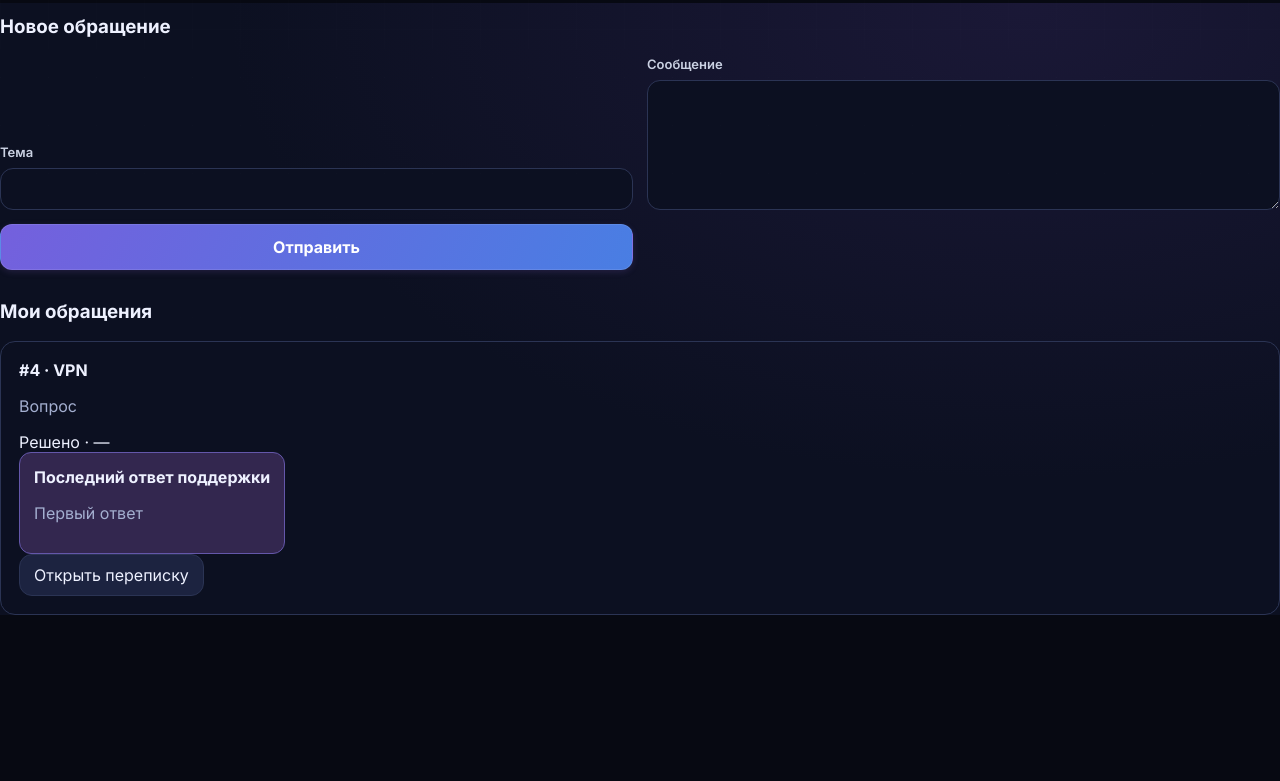
Scenario: opens a support conversation and retries the same follow-up safely
Click the button "Открыть переписку" at [111, 575], box [19, 554, 204, 596]
(page scrolled)
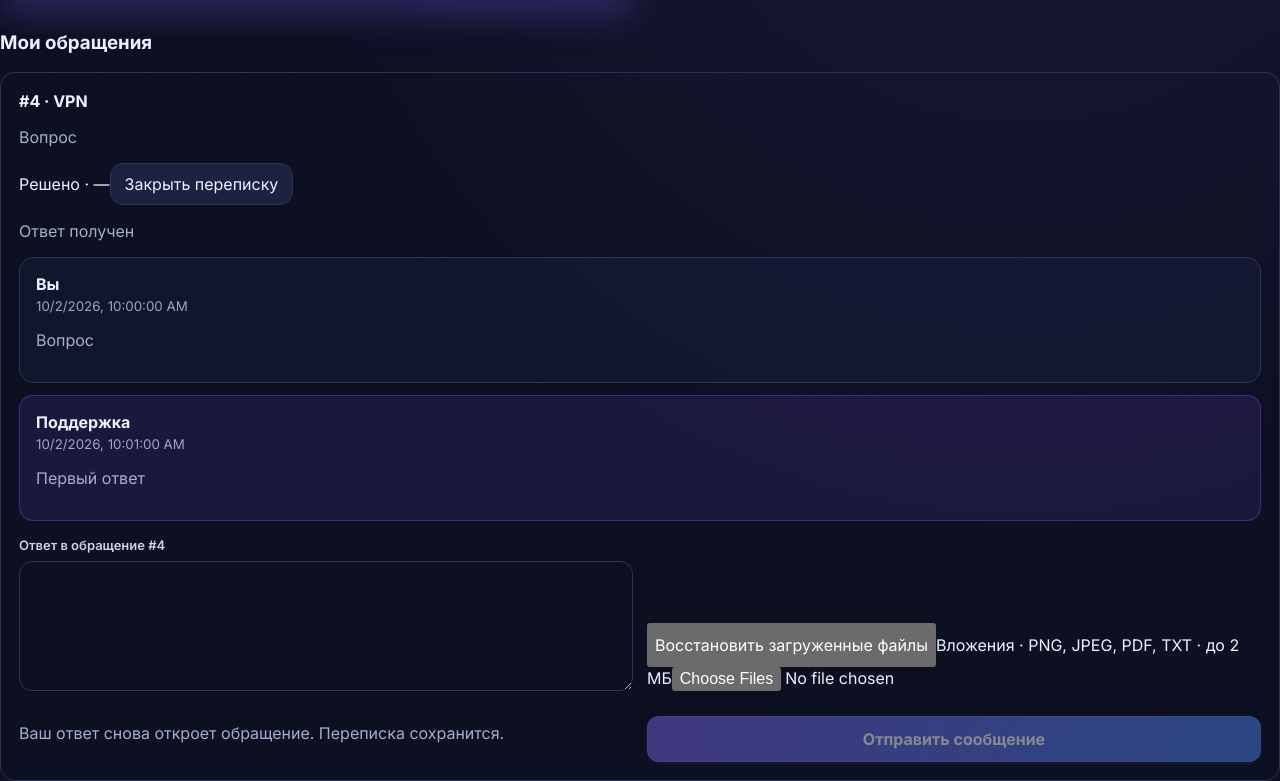
Check: the text "Ответ получен" is shown, box [19, 221, 134, 241]
Type "Нужна ещё помощь" into the text box labelled "Ответ в обращение #4" at [326, 626], box [19, 561, 633, 691]
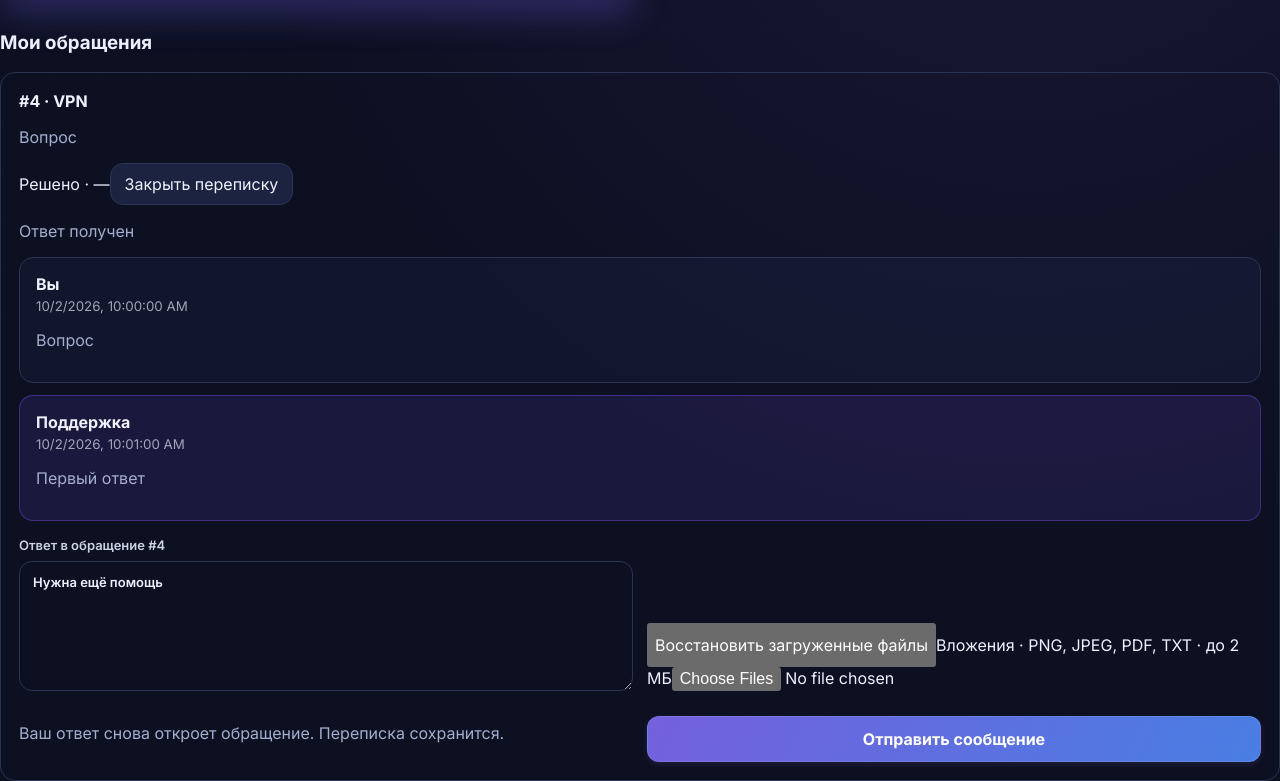
Click the button "Отправить сообщение" at [954, 739], box [647, 716, 1261, 762]
(page scrolled)
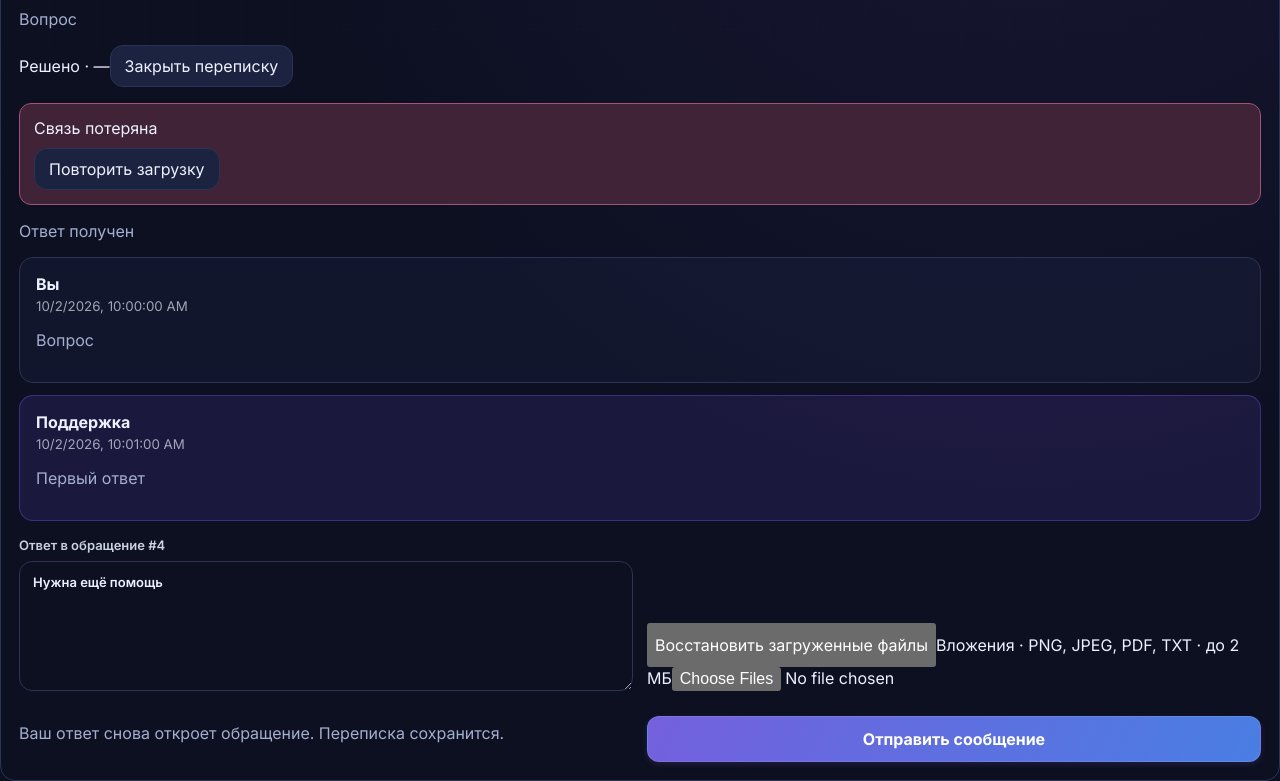
Check: the button "Отправить сообщение" is enabled
Check: the text "Связь потеряна" is shown, box [34, 118, 158, 138]
Click the button "Отправить сообщение" at [954, 739], box [647, 716, 1261, 762]
(page scrolled)
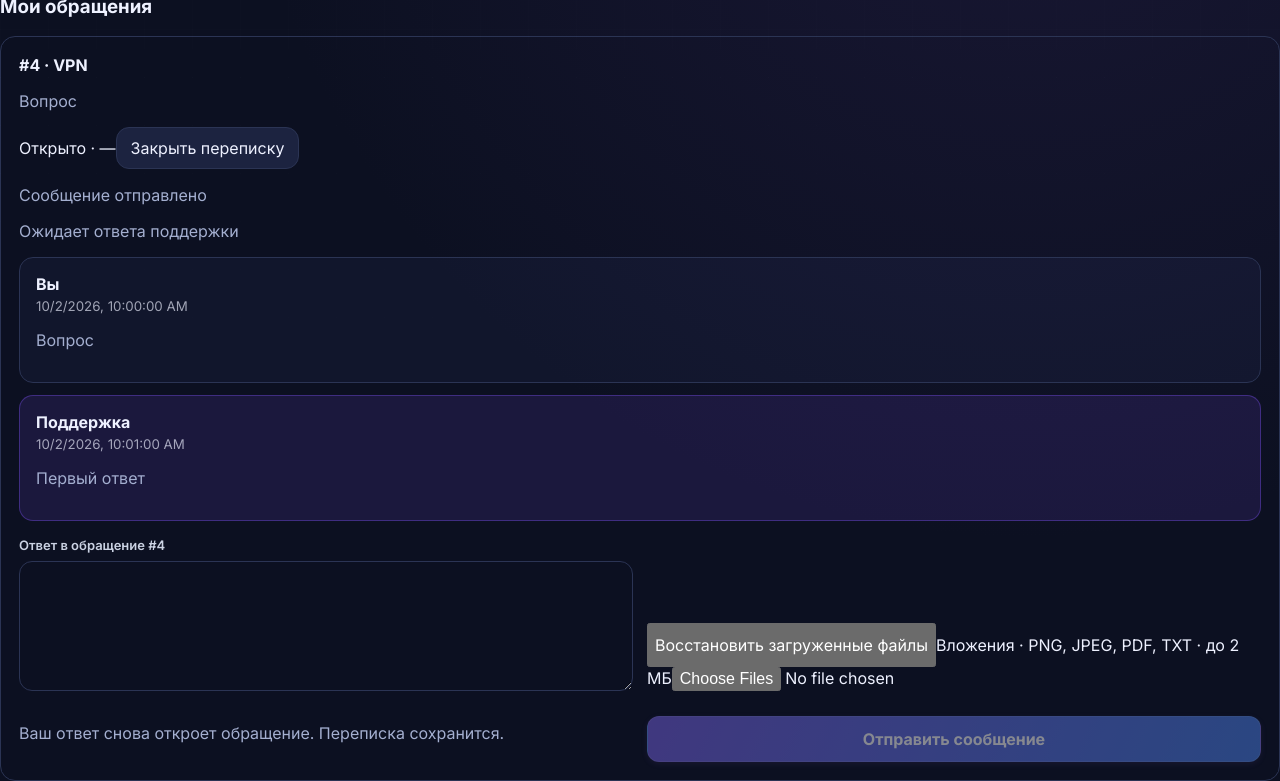
Check: the text "Ожидает ответа поддержки" is shown, box [19, 221, 239, 241]
Check: the text box labelled "Ответ в обращение #4" is empty, box [19, 561, 633, 691]
